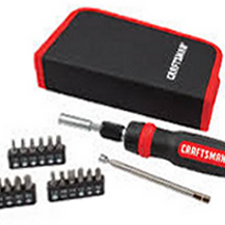Screwdriver: (54, 104, 225, 178)
